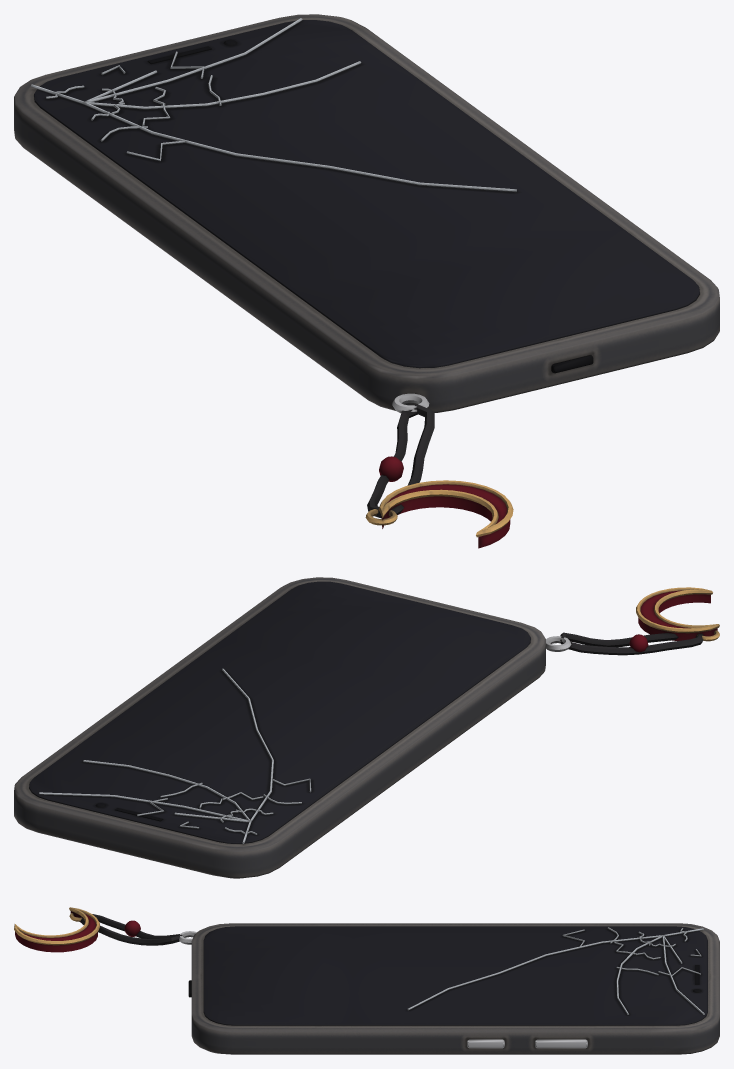
File: LostPhone.fbx
The picture shows the model from 3 angles, top to bottom: view 1: azimuth 30°, elevation 25°; view 2: azimuth 150°, elevation 25°; view 3: azimuth 270°, elevation 25°; orthographic projection. The views are drawn at different scales.
Visible parts, largest first — view 1: LostPhone; view 2: LostPhone; view 3: LostPhone.
Part boxes in pixels (bbox=[...]): LostPhone: bbox=[14, 14, 719, 548]; LostPhone: bbox=[14, 577, 719, 878]; LostPhone: bbox=[14, 907, 719, 1054].
Size of the model in its own units: 46.28 by 5.27 by 93.52.
